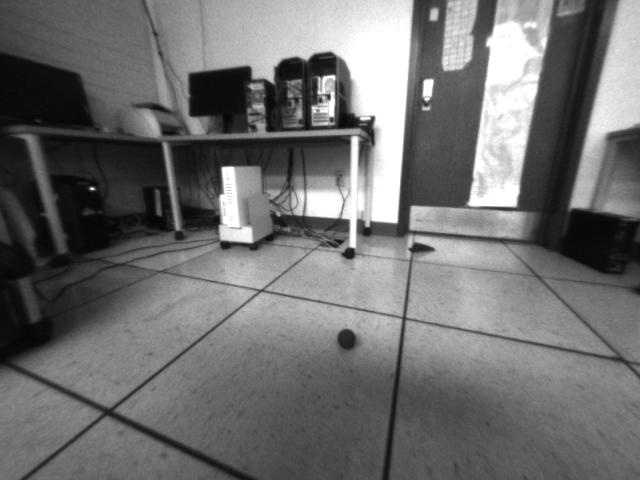dogtoy: (334, 325, 360, 352)
